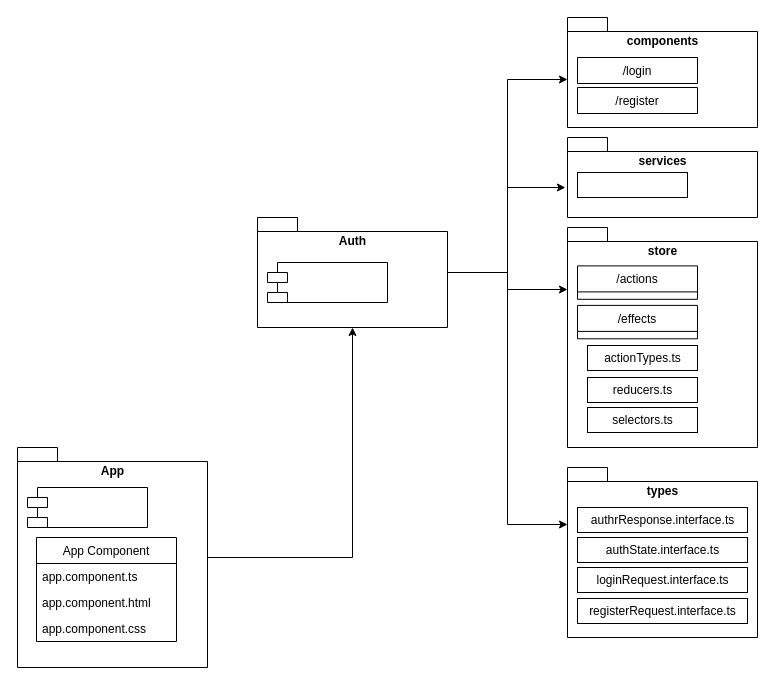
The diagram is 775 pixels wide and 685 high, and some of its shapes have lost their labels. The shapes that lost their labels are listed below. From the top down, each one's centre as x and y in pixels, then its label:
(x=632, y=185): auth.service.ts
(x=327, y=282): Auth Module
(x=87, y=507): App Module
